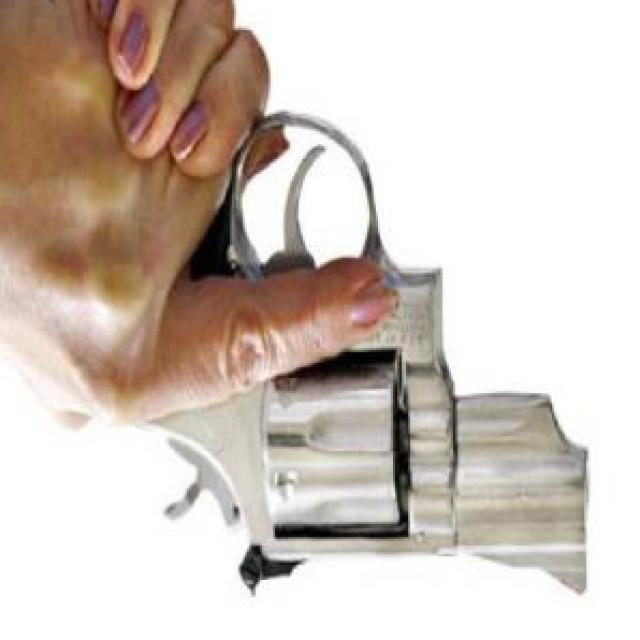pistol: (118, 113, 594, 597)
